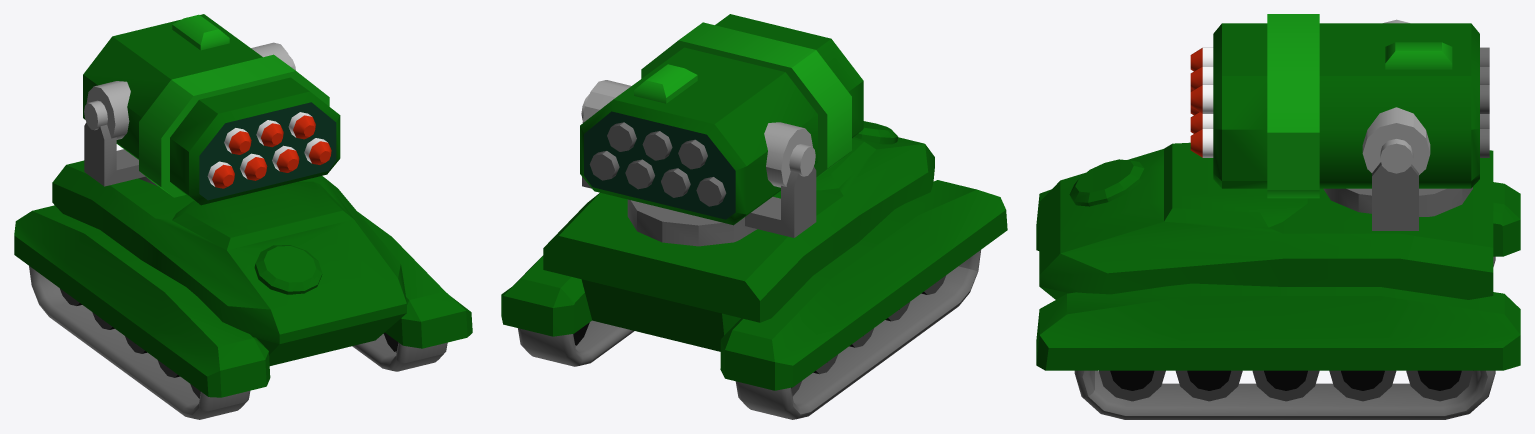
File: Missle_Vehicles2.fbx
The picture shows the model from 3 angles, left to right: view 1: azimuth 30°, elevation 25°; view 2: azimuth 150°, elevation 25°; view 3: azimuth 270°, elevation 25°; orthographic projection. The views are drawn at different scales.
Parts seen in each view (by area): view 1: body, Gun, Tie_R1, Top, Missle, Tie_R2; view 2: body, Gun, Top, Tie_R1, Missle, Tie_R2; view 3: body, Gun, Tie_R2, Top, Missle.
Boxes of the visible parts, x1,y1,x2,y2 form: body: [14, 160, 472, 397]; Gun: [83, 14, 340, 205]; Tie_R1: [29, 266, 250, 419]; Top: [84, 42, 295, 186]; Missle: [207, 112, 331, 188]; Tie_R2: [352, 332, 447, 371]; body: [501, 121, 1007, 390]; Gun: [580, 14, 863, 225]; Top: [581, 80, 816, 246]; Tie_R1: [735, 250, 980, 419]; Missle: [589, 122, 726, 206]; Tie_R2: [518, 320, 634, 366]; body: [1036, 142, 1520, 370]; Gun: [1213, 14, 1479, 198]; Tie_R2: [1074, 370, 1495, 419]; Top: [1323, 19, 1472, 230]; Missle: [1190, 47, 1489, 157].
Bounding box in the file's own units: 203 × 198 × 274.
